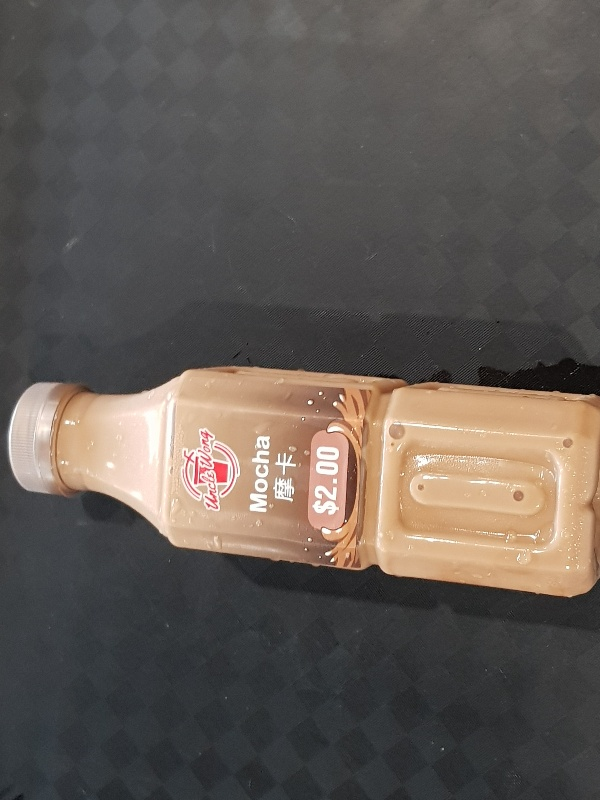Mocha: (7, 364, 600, 599)
